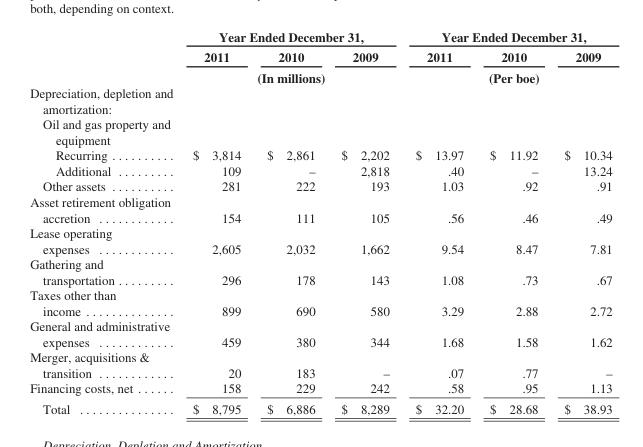table: (29, 28, 611, 415)
table column: (29, 28, 180, 415), (401, 28, 476, 415), (253, 28, 327, 415), (327, 28, 401, 415), (476, 28, 550, 415), (180, 28, 253, 415), (550, 28, 611, 415)
table column header: (29, 28, 611, 85)
table projected row header: (29, 85, 611, 116), (29, 116, 611, 147)
table row: (29, 85, 611, 116), (29, 116, 611, 147), (29, 193, 611, 224), (29, 224, 611, 255), (29, 255, 611, 286), (29, 286, 611, 317), (29, 317, 611, 348), (29, 348, 611, 379), (29, 46, 611, 67), (29, 28, 611, 46), (29, 67, 611, 85), (29, 379, 611, 397), (29, 397, 611, 415), (29, 162, 611, 178), (29, 147, 611, 162), (29, 178, 611, 193)
table spanning cell: (180, 28, 401, 46), (180, 67, 401, 85), (401, 28, 611, 46), (401, 67, 611, 85)
